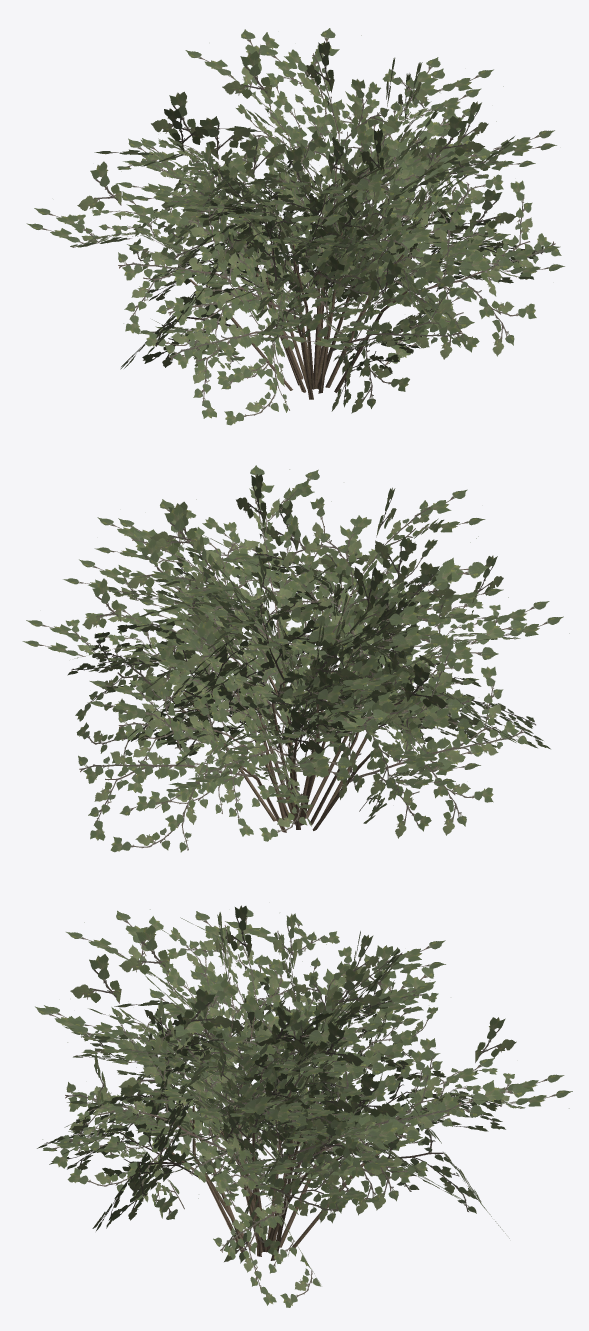
Rendered from Fremontodendron_Californicum_Autumn_Young.glb.
3 views of the same model, one above another, from view 1: azimuth 30°, elevation 25°; view 2: azimuth 150°, elevation 25°; view 3: azimuth 270°, elevation 25° (orthographic). The views are drawn at different scales.
Parts seen in each view (by area): view 1: Fremontodendron_Californicum_Autumn_Young__LOD3; view 2: Fremontodendron_Californicum_Autumn_Young__LOD3; view 3: Fremontodendron_Californicum_Autumn_Young__LOD3.
Part boxes in pixels (x1,y1,x2,y2): Fremontodendron_Californicum_Autumn_Young__LOD3: (26, 28, 564, 425); Fremontodendron_Californicum_Autumn_Young__LOD3: (22, 465, 569, 852); Fremontodendron_Californicum_Autumn_Young__LOD3: (35, 905, 572, 1307).
Bounding box in the file's own units: 2.31 × 1.49 × 2.34.
2 materials, 2 textured.
